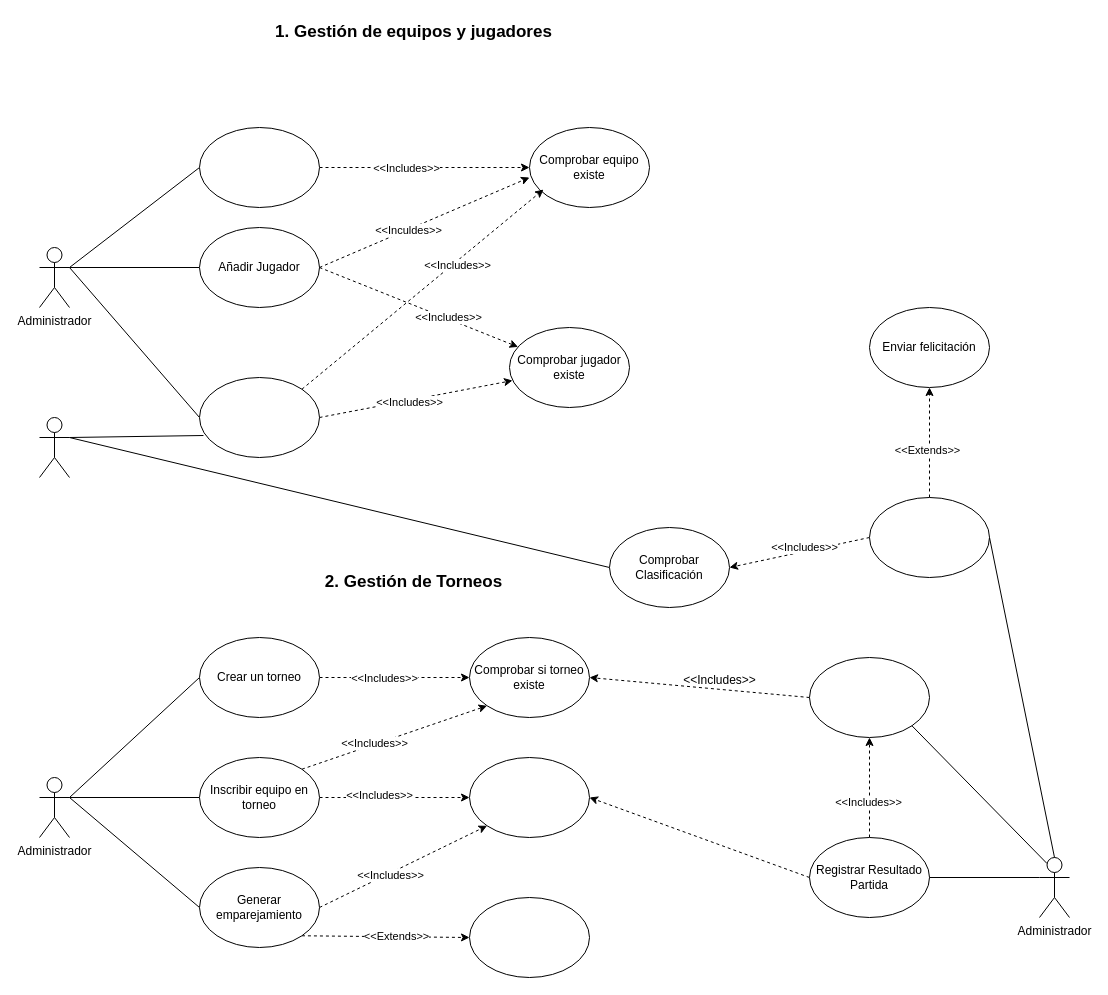
The diagram is 1108 pixels wide and 995 high, and some of its shapes have lost their labels. The shapes that lost their labels are listed below. From the top down, each one's box as (x1, y1, x2, y2) in pixels, then its label:
(198, 126, 320, 208): Registrar Equipo
(198, 376, 320, 458): Consultar lista equipos y jugadores
(38, 416, 70, 478): Usuario
(868, 496, 990, 578): Asignar Premio Ganadores
(808, 656, 930, 738): Actualizar clasificacion
(468, 756, 590, 838): Comprobar inscripción de equipo
(468, 896, 590, 978): Enviar confirmación de emparejamiento
